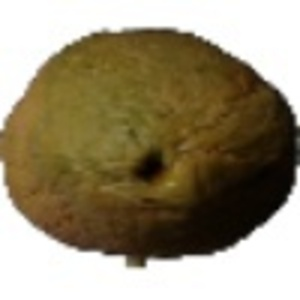mamão: (3, 17, 292, 261)
